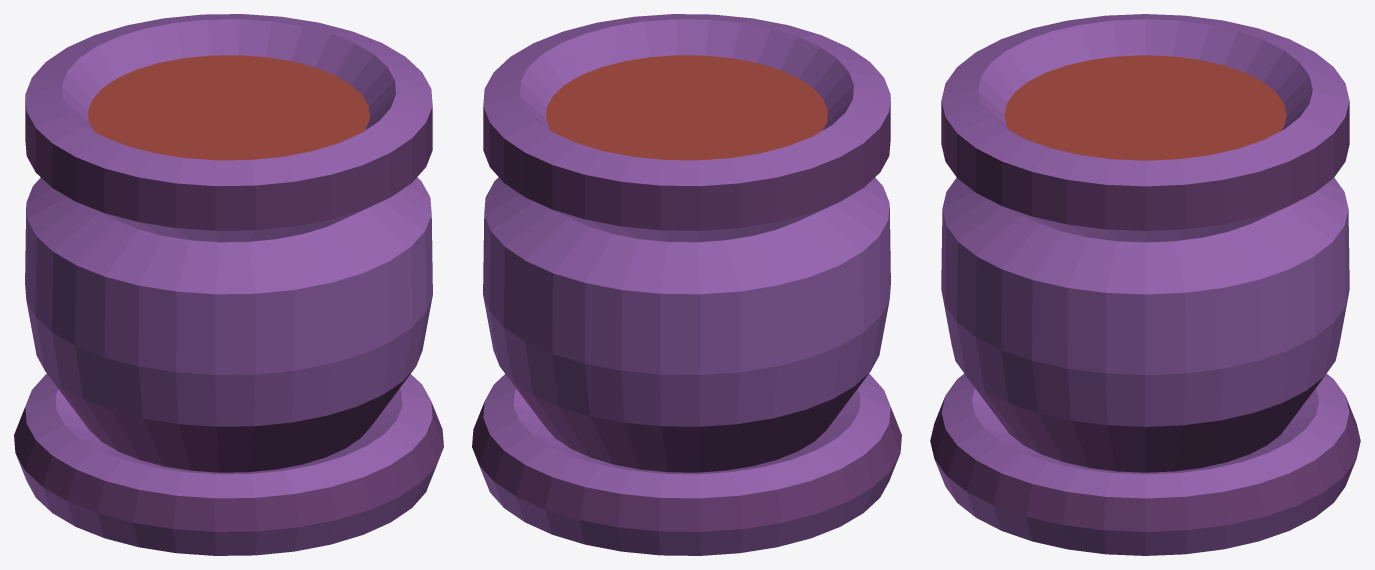
Rendered from Pot_Fixed.fbx.
The picture shows the model from 3 angles, left to right: view 1: azimuth 30°, elevation 25°; view 2: azimuth 150°, elevation 25°; view 3: azimuth 270°, elevation 25°; orthographic projection.
Visible parts, largest first — view 1: Cylinder.006; view 2: Cylinder.006; view 3: Cylinder.006.
Part boxes in pixels (<box>): Cylinder.006: <box>14,14,443,555</box>; Cylinder.006: <box>472,14,901,555</box>; Cylinder.006: <box>930,14,1360,555</box>.
Bounding box in the file's own units: 24.69 × 24.03 × 24.69.
